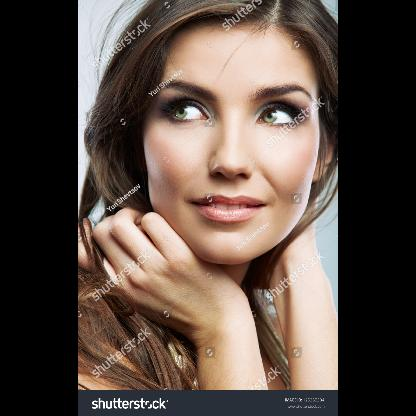Female: (142, 21, 332, 264)
